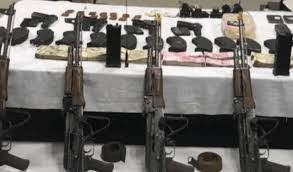gun: (225, 12, 281, 168), (143, 17, 191, 168), (62, 13, 107, 165), (1, 4, 30, 172), (179, 17, 207, 39), (32, 3, 57, 27), (129, 17, 162, 33), (86, 13, 107, 32)
